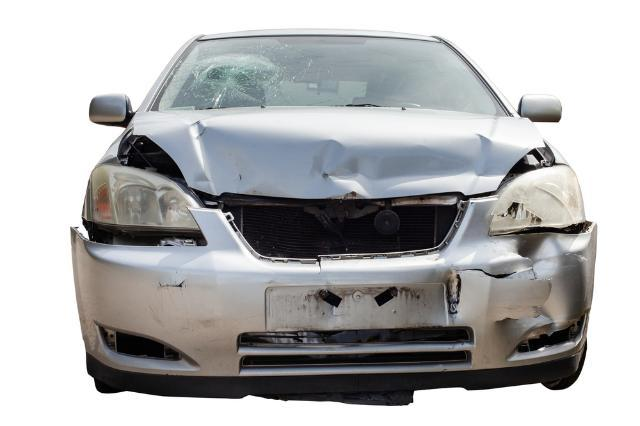crack: (461, 268, 518, 280), (497, 316, 541, 325), (316, 258, 323, 275)
dent: (187, 122, 526, 199), (514, 234, 567, 326), (443, 271, 462, 327)
dislocated part: (70, 202, 599, 379), (114, 112, 556, 207)
glass shatter: (151, 35, 511, 117)
lamp broken: (490, 164, 586, 236)
